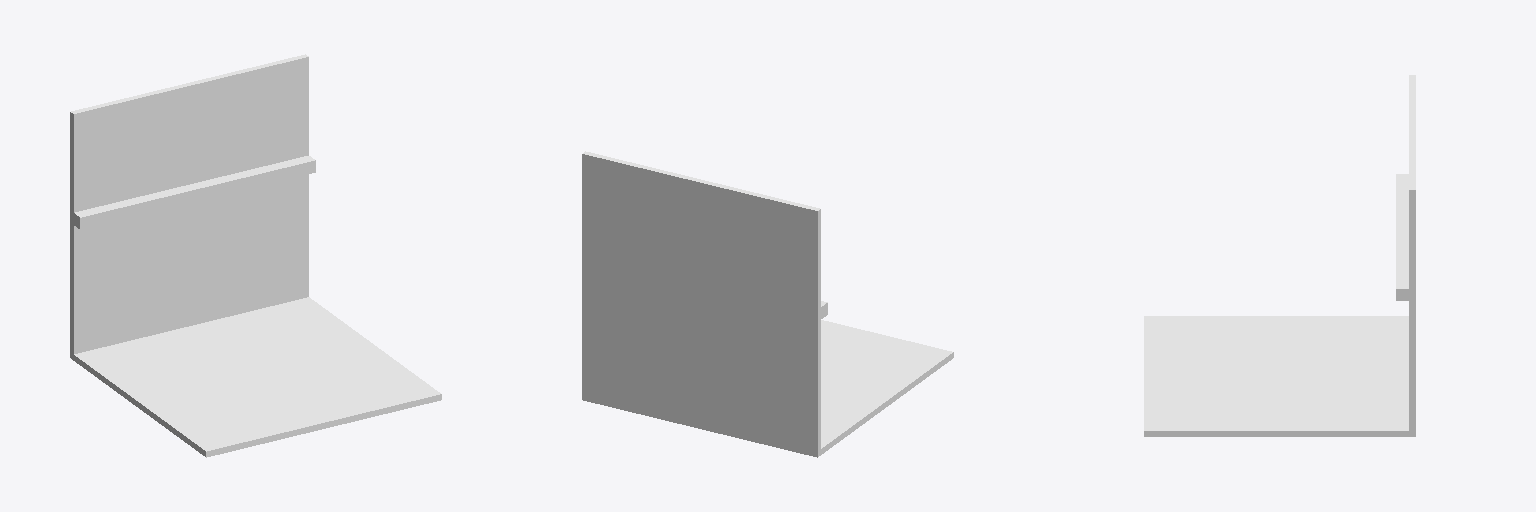
Rendered from Wall(Lab-A).obj.
3 views of the same model, side by side, from view 1: azimuth 30°, elevation 25°; view 2: azimuth 150°, elevation 25°; view 3: azimuth 270°, elevation 25° (orthographic).
Visible parts, largest first — view 1: object 1; view 2: object 1; view 3: object 1.
Boxes of the visible parts, x1=… form: object 1: x1=70, y1=54, x2=441, y2=457; object 1: x1=582, y1=151, x2=953, y2=457; object 1: x1=1144, y1=75, x2=1415, y2=436.
Bounding box in the file's own units: 4 × 4 × 4.